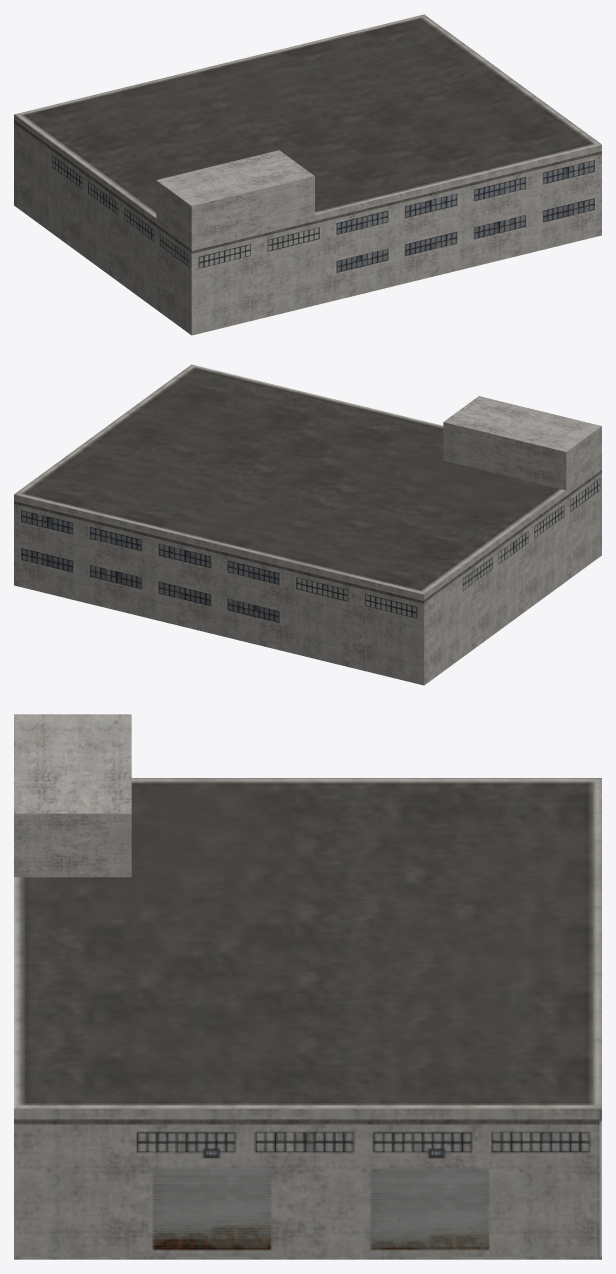
Rendered from build3.fbx.
The picture shows the model from 3 angles, top to bottom: view 1: azimuth 30°, elevation 25°; view 2: azimuth 150°, elevation 25°; view 3: azimuth 270°, elevation 25°; orthographic projection. The views are drawn at different scales.
Parts seen in each view (by area): view 1: polySurface724; view 2: polySurface724; view 3: polySurface724.
Boxes of the visible parts, bbox=[...] form: polySurface724: bbox=[14, 14, 601, 335]; polySurface724: bbox=[14, 364, 601, 685]; polySurface724: bbox=[14, 714, 601, 1259].
Size of the model in its own units: 31.7 by 9.56 by 23.78.
